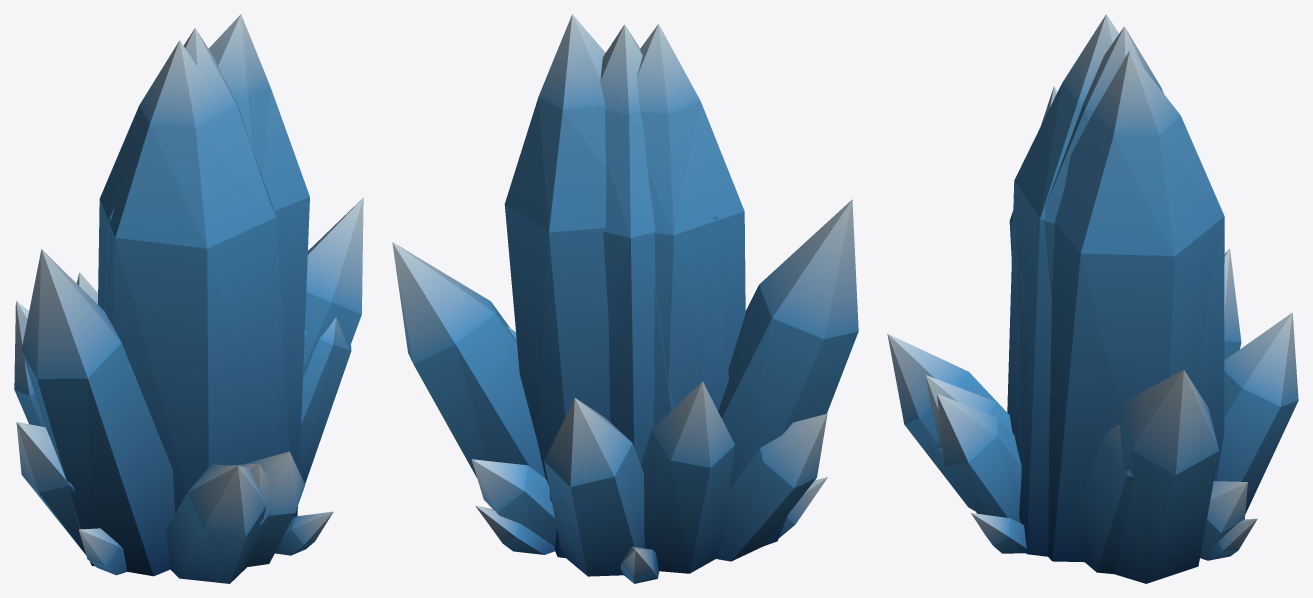
File: ice_spikes.glb
The picture shows the model from 3 angles, left to right: view 1: azimuth 30°, elevation 25°; view 2: azimuth 150°, elevation 25°; view 3: azimuth 270°, elevation 25°; orthographic projection. The views are drawn at different scales.
Visible parts, largest first — view 1: IceSpikeC, IceSpikeB, IceSpikeA; view 2: IceSpikeB, IceSpikeA, IceSpikeC; view 3: IceSpikeB, IceSpikeC, IceSpikeA.
Boxes of the visible parts, box(x1,y1,x2,y2) form: IceSpikeC: box(16, 40, 351, 566); IceSpikeB: box(21, 14, 333, 583); IceSpikeA: box(14, 28, 363, 575); IceSpikeB: box(471, 14, 858, 583); IceSpikeA: box(392, 24, 827, 573); IceSpikeC: box(475, 24, 827, 576); IceSpikeB: box(887, 50, 1247, 562); IceSpikeC: box(937, 14, 1298, 573); IceSpikeA: box(925, 26, 1241, 583).
Size of the model in its own units: 0.8339 by 1 by 0.7424.
